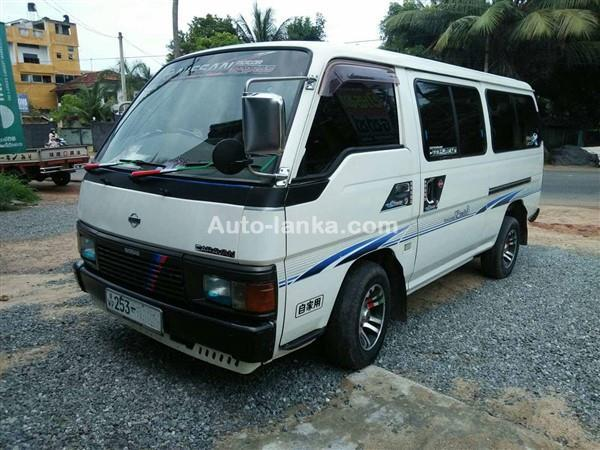van: (69, 43, 549, 371)
